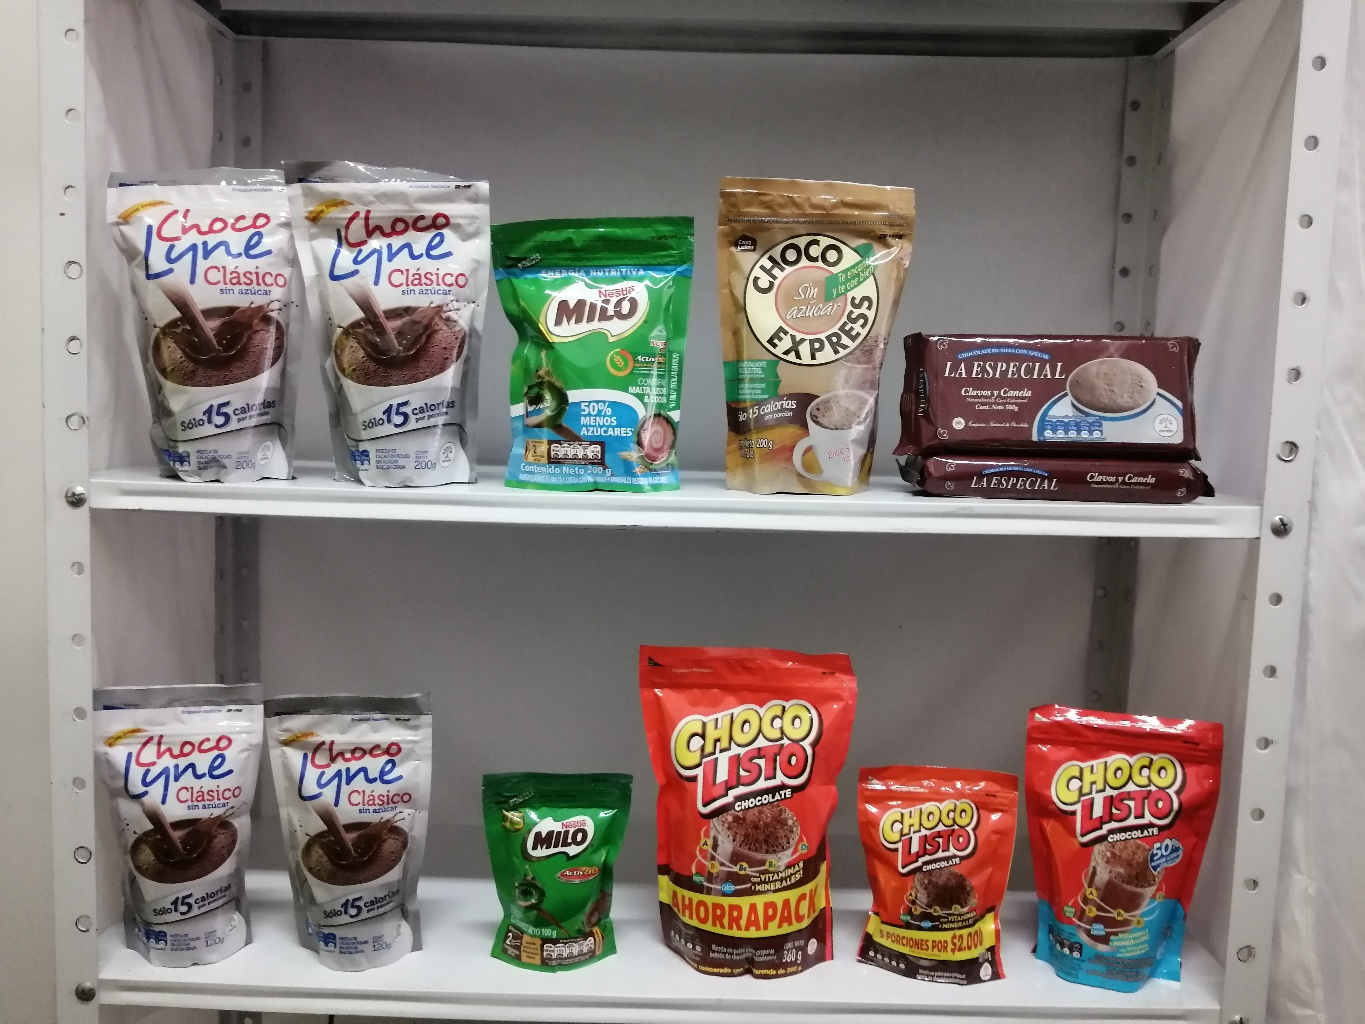COL0170103DYP36000: (635, 640, 861, 985)
COL0170104DYP20000: (1026, 697, 1232, 996)
COL0170203DYP10000: (482, 768, 632, 975)
COL0170205DYP20000: (490, 208, 691, 494)
